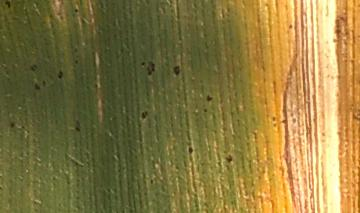tarspot: (146, 59, 156, 77), (138, 109, 150, 121), (222, 153, 234, 164), (55, 68, 65, 81), (28, 62, 39, 73), (172, 65, 181, 78), (204, 93, 214, 103), (186, 145, 195, 156), (2, 1, 12, 10), (33, 82, 42, 91), (73, 126, 82, 134), (148, 177, 156, 186), (279, 118, 288, 126), (74, 119, 82, 127), (72, 58, 80, 66), (72, 47, 80, 55), (201, 106, 209, 114), (139, 60, 147, 68), (9, 120, 16, 129), (269, 115, 278, 122), (134, 122, 142, 129), (290, 117, 298, 124), (93, 82, 99, 91), (40, 80, 47, 87), (287, 23, 294, 30), (85, 85, 92, 91), (73, 7, 79, 14), (271, 122, 278, 128), (289, 111, 295, 118)
